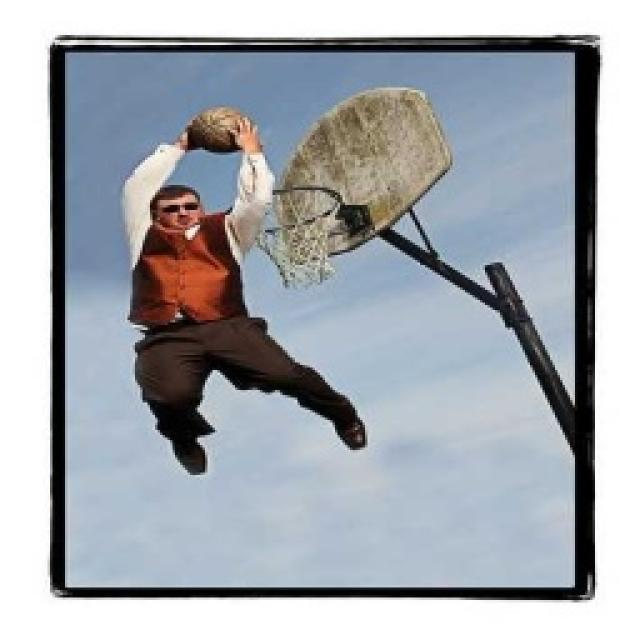basketball: (193, 101, 256, 161)
